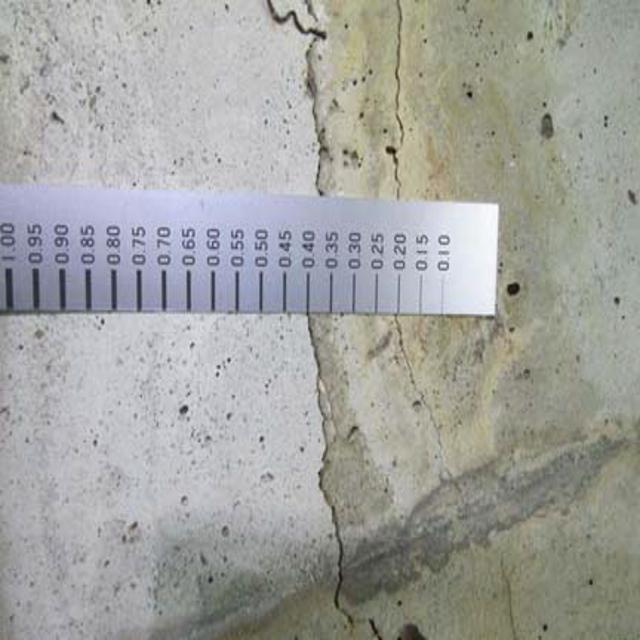crack: (295, 318, 530, 640), (263, 10, 420, 204)
